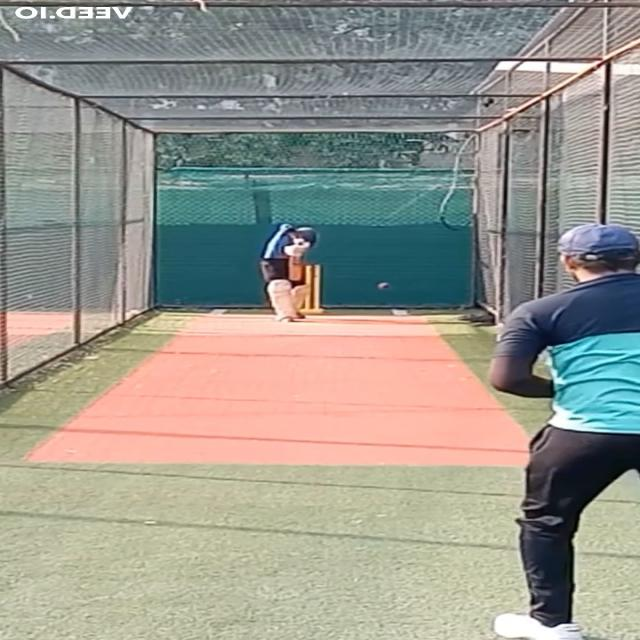ball: (377, 282, 391, 290)
stump: (302, 264, 326, 314)
